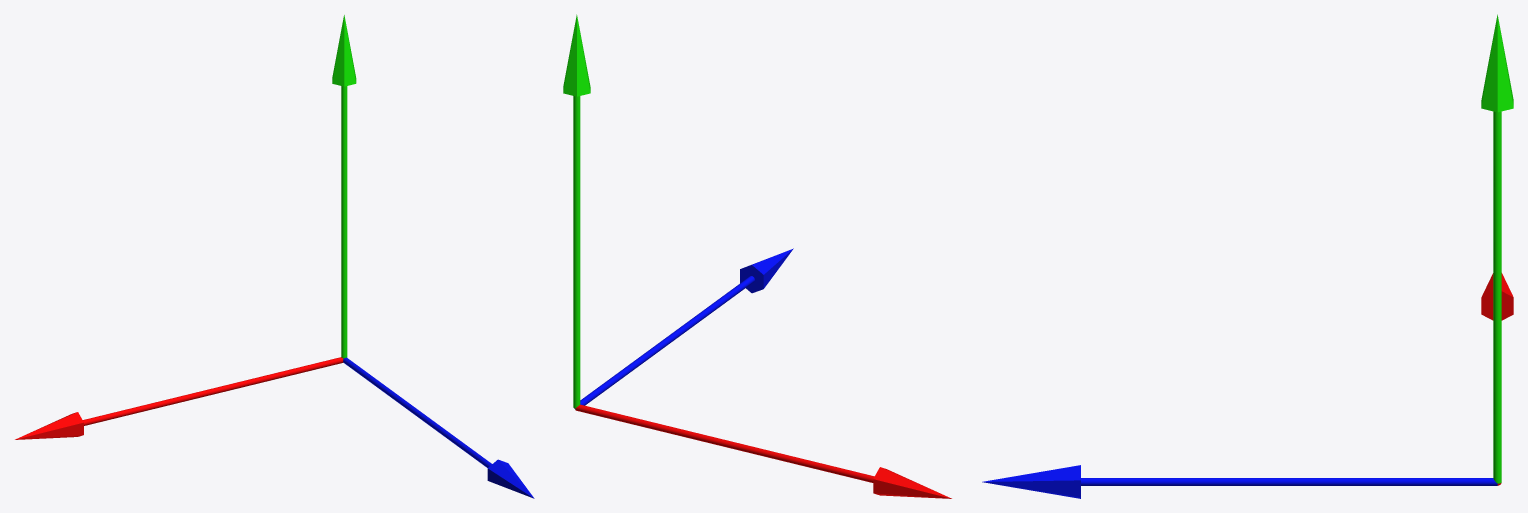
Rendered from Axis.FBX.
3 views of the same model, side by side, from view 1: azimuth 30°, elevation 25°; view 2: azimuth 150°, elevation 25°; view 3: azimuth 270°, elevation 25° (orthographic). The views are drawn at different scales.
Parts seen in each view (by area): view 1: Axis; view 2: Axis; view 3: Axis.
Part boxes in pixels (left/top/right/bottom): Axis: left=15, top=15, right=534, bottom=498; Axis: left=563, top=14, right=951, bottom=498; Axis: left=982, top=14, right=1513, bottom=498.
Size of the model in its own units: 128 by 129 by 128.
